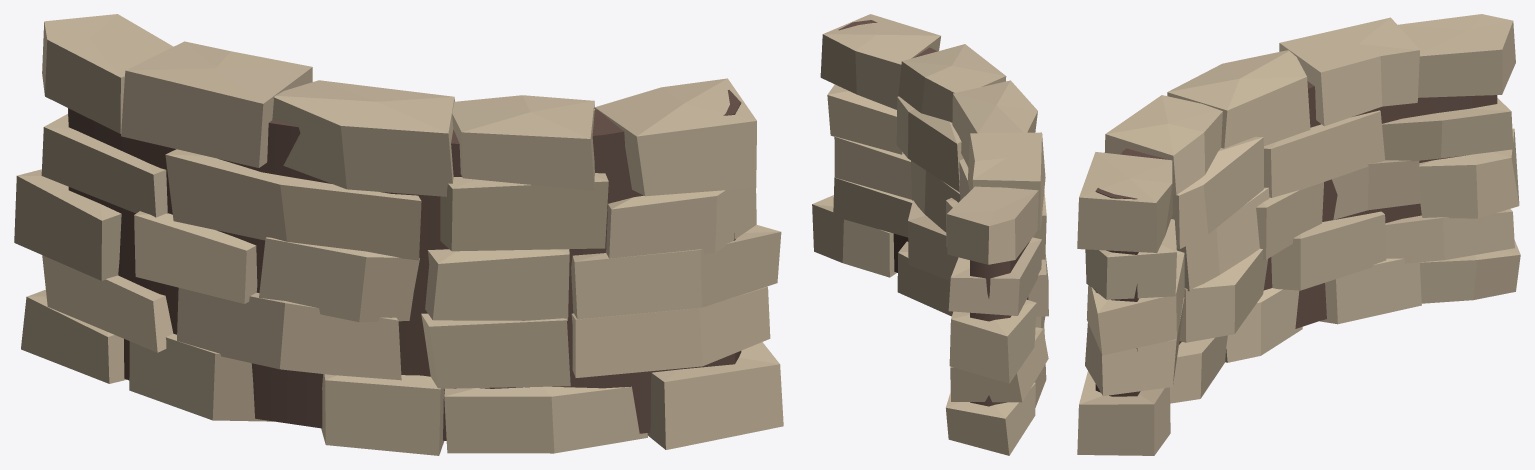
The model's file is LightSandStoneWallSmallCurved1.fbx.
The picture shows the model from 3 angles, left to right: view 1: azimuth 30°, elevation 25°; view 2: azimuth 150°, elevation 25°; view 3: azimuth 270°, elevation 25°; orthographic projection. The views are drawn at different scales.
Visible parts, largest first — view 1: LightSandStoneWallSmallCurved1; view 2: LightSandStoneWallSmallCurved1; view 3: LightSandStoneWallSmallCurved1.
Boxes of the visible parts, box(x1,y1,x2,y2) form: LightSandStoneWallSmallCurved1: box(14, 14, 783, 455); LightSandStoneWallSmallCurved1: box(812, 14, 1048, 455); LightSandStoneWallSmallCurved1: box(1077, 14, 1520, 455).
Size of the model in its own units: 351 by 222 by 335.
